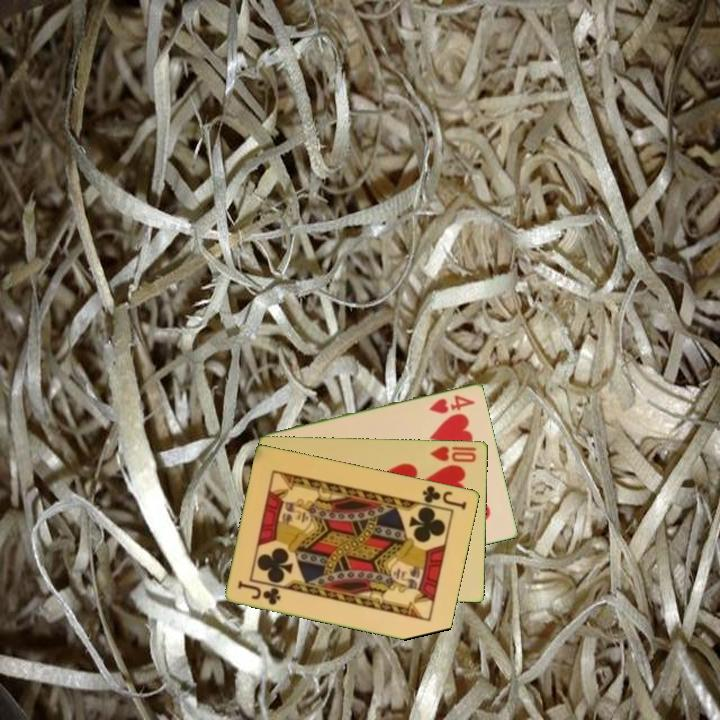10h: (427, 443, 480, 465)
4h: (425, 391, 478, 416)
Jc: (419, 482, 470, 513), (234, 577, 284, 608)
